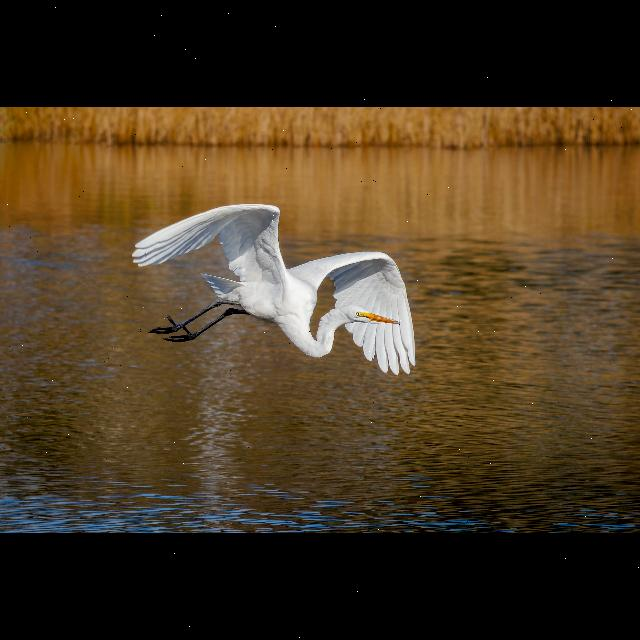egret: (134, 202, 420, 374)
